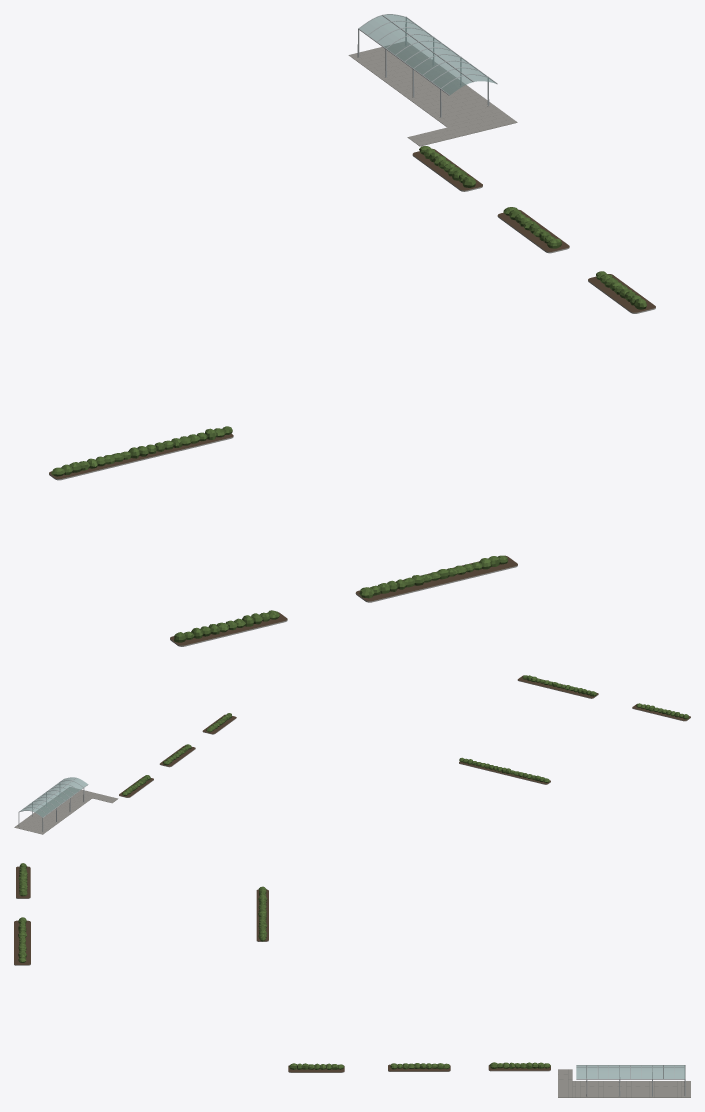
The model's file is rear-streetscape-photo-v1.glb.
The picture shows the model from 3 angles, top to bottom: view 1: azimuth 30°, elevation 25°; view 2: azimuth 150°, elevation 25°; view 3: azimuth 270°, elevation 25°; orthographic projection. The views are drawn at different scales.
Visible parts, largest first — view 1: 弧面雨棚、石板步道和街缘低绿篱; view 2: 弧面雨棚、石板步道和街缘低绿篱; view 3: 弧面雨棚、石板步道和街缘低绿篱.
Boxes of the visible parts, bbox=[...] form: 弧面雨棚、石板步道和街缘低绿篱: bbox=[49, 14, 655, 646]; 弧面雨棚、石板步道和街缘低绿篱: bbox=[14, 675, 690, 834]; 弧面雨棚、石板步道和街缘低绿篱: bbox=[14, 863, 690, 1097].
Size of the model in its own units: 71.1 by 3.31 by 88.2.
